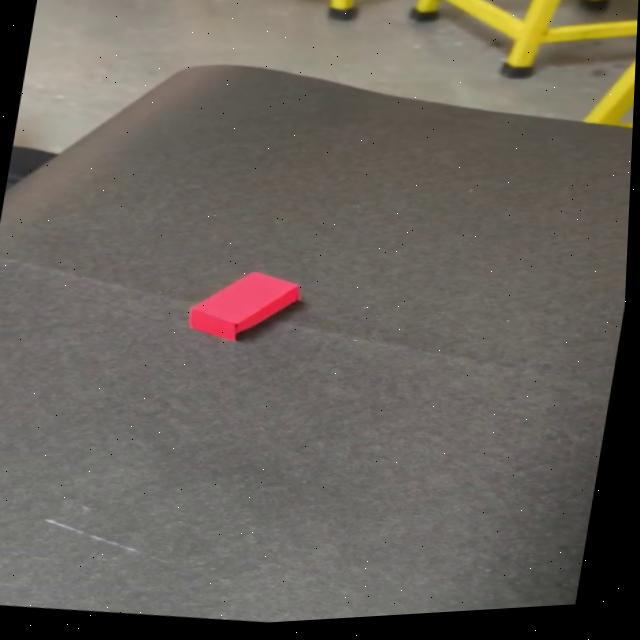red block: (183, 259, 307, 351)
